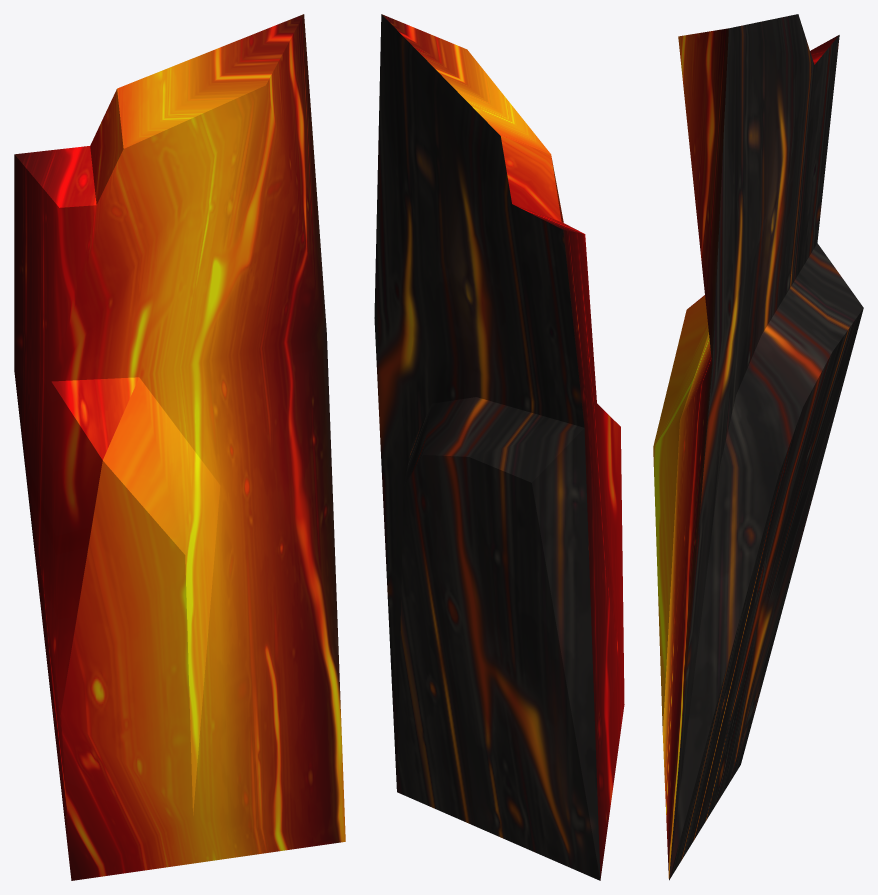
Rendered from p_mesh_hvs_burntforest_rootbase02.fbx.
The picture shows the model from 3 angles, left to right: view 1: azimuth 30°, elevation 25°; view 2: azimuth 150°, elevation 25°; view 3: azimuth 270°, elevation 25°; orthographic projection. The views are drawn at different scales.
Parts seen in each view (by area): view 1: p_mesh_hvs_burntforest_rootbase02; view 2: p_mesh_hvs_burntforest_rootbase02; view 3: p_mesh_hvs_burntforest_rootbase02.
Part boxes in pixels (bbox=[...]): p_mesh_hvs_burntforest_rootbase02: bbox=[14, 14, 345, 880]; p_mesh_hvs_burntforest_rootbase02: bbox=[374, 14, 624, 880]; p_mesh_hvs_burntforest_rootbase02: bbox=[653, 14, 863, 880].
Size of the model in its own units: 1.68 by 4.98 by 1.12.
